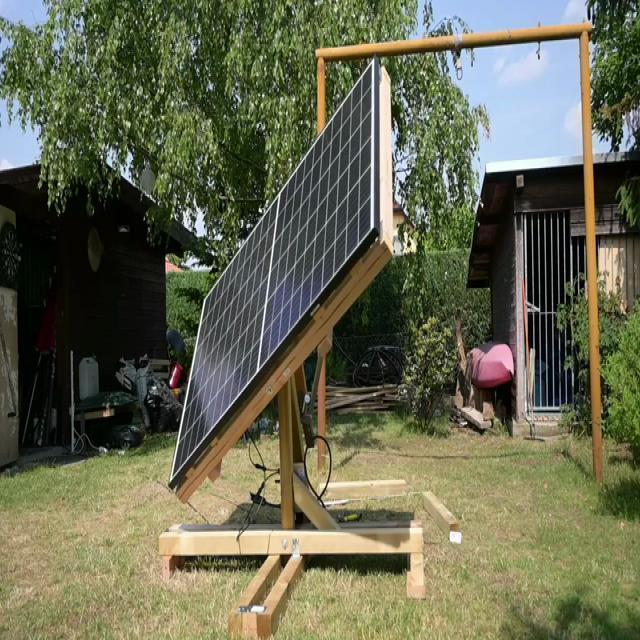Normal Solar Panel: (167, 61, 378, 484)
